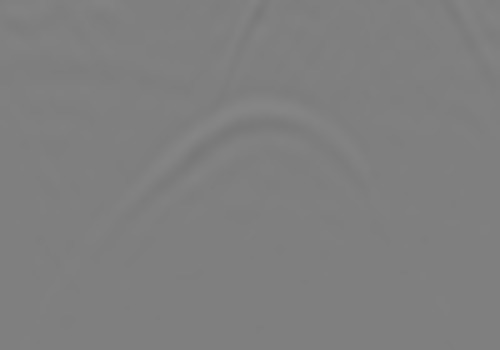hyperbola: (100, 99, 410, 271)
